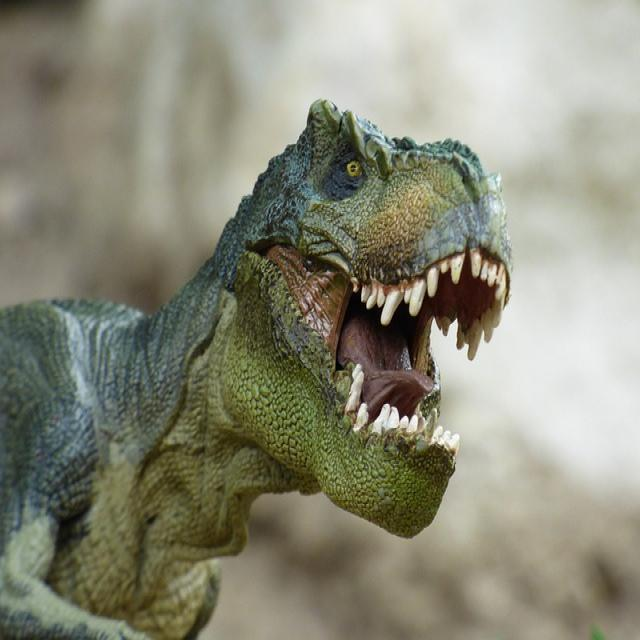Carnivorous: (0, 101, 514, 640)
